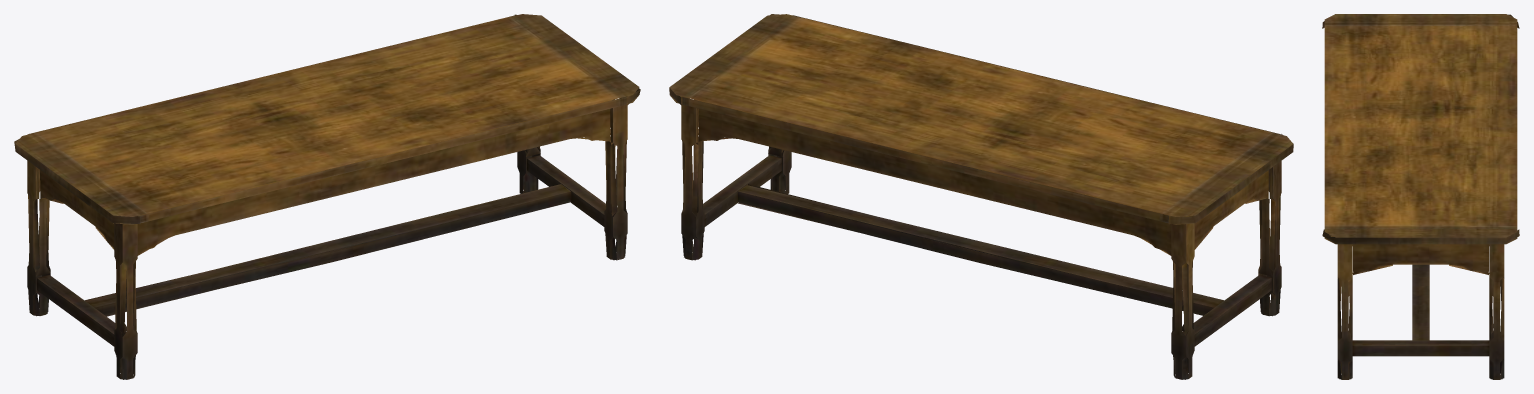
File: WoodenTable_01.glb
3 views of the same model, side by side, from view 1: azimuth 30°, elevation 25°; view 2: azimuth 150°, elevation 25°; view 3: azimuth 270°, elevation 25° (orthographic). The views are drawn at different scales.
Parts seen in each view (by area): view 1: WoodenTable_01; view 2: WoodenTable_01; view 3: WoodenTable_01.
Boxes of the visible parts, x1,y1,x2,y2 form: WoodenTable_01: [14, 14, 640, 379]; WoodenTable_01: [669, 14, 1293, 379]; WoodenTable_01: [1322, 14, 1519, 379].
Size of the model in its own units: 1.79 by 0.5488 by 0.6676.
1 material, 1 textured.
